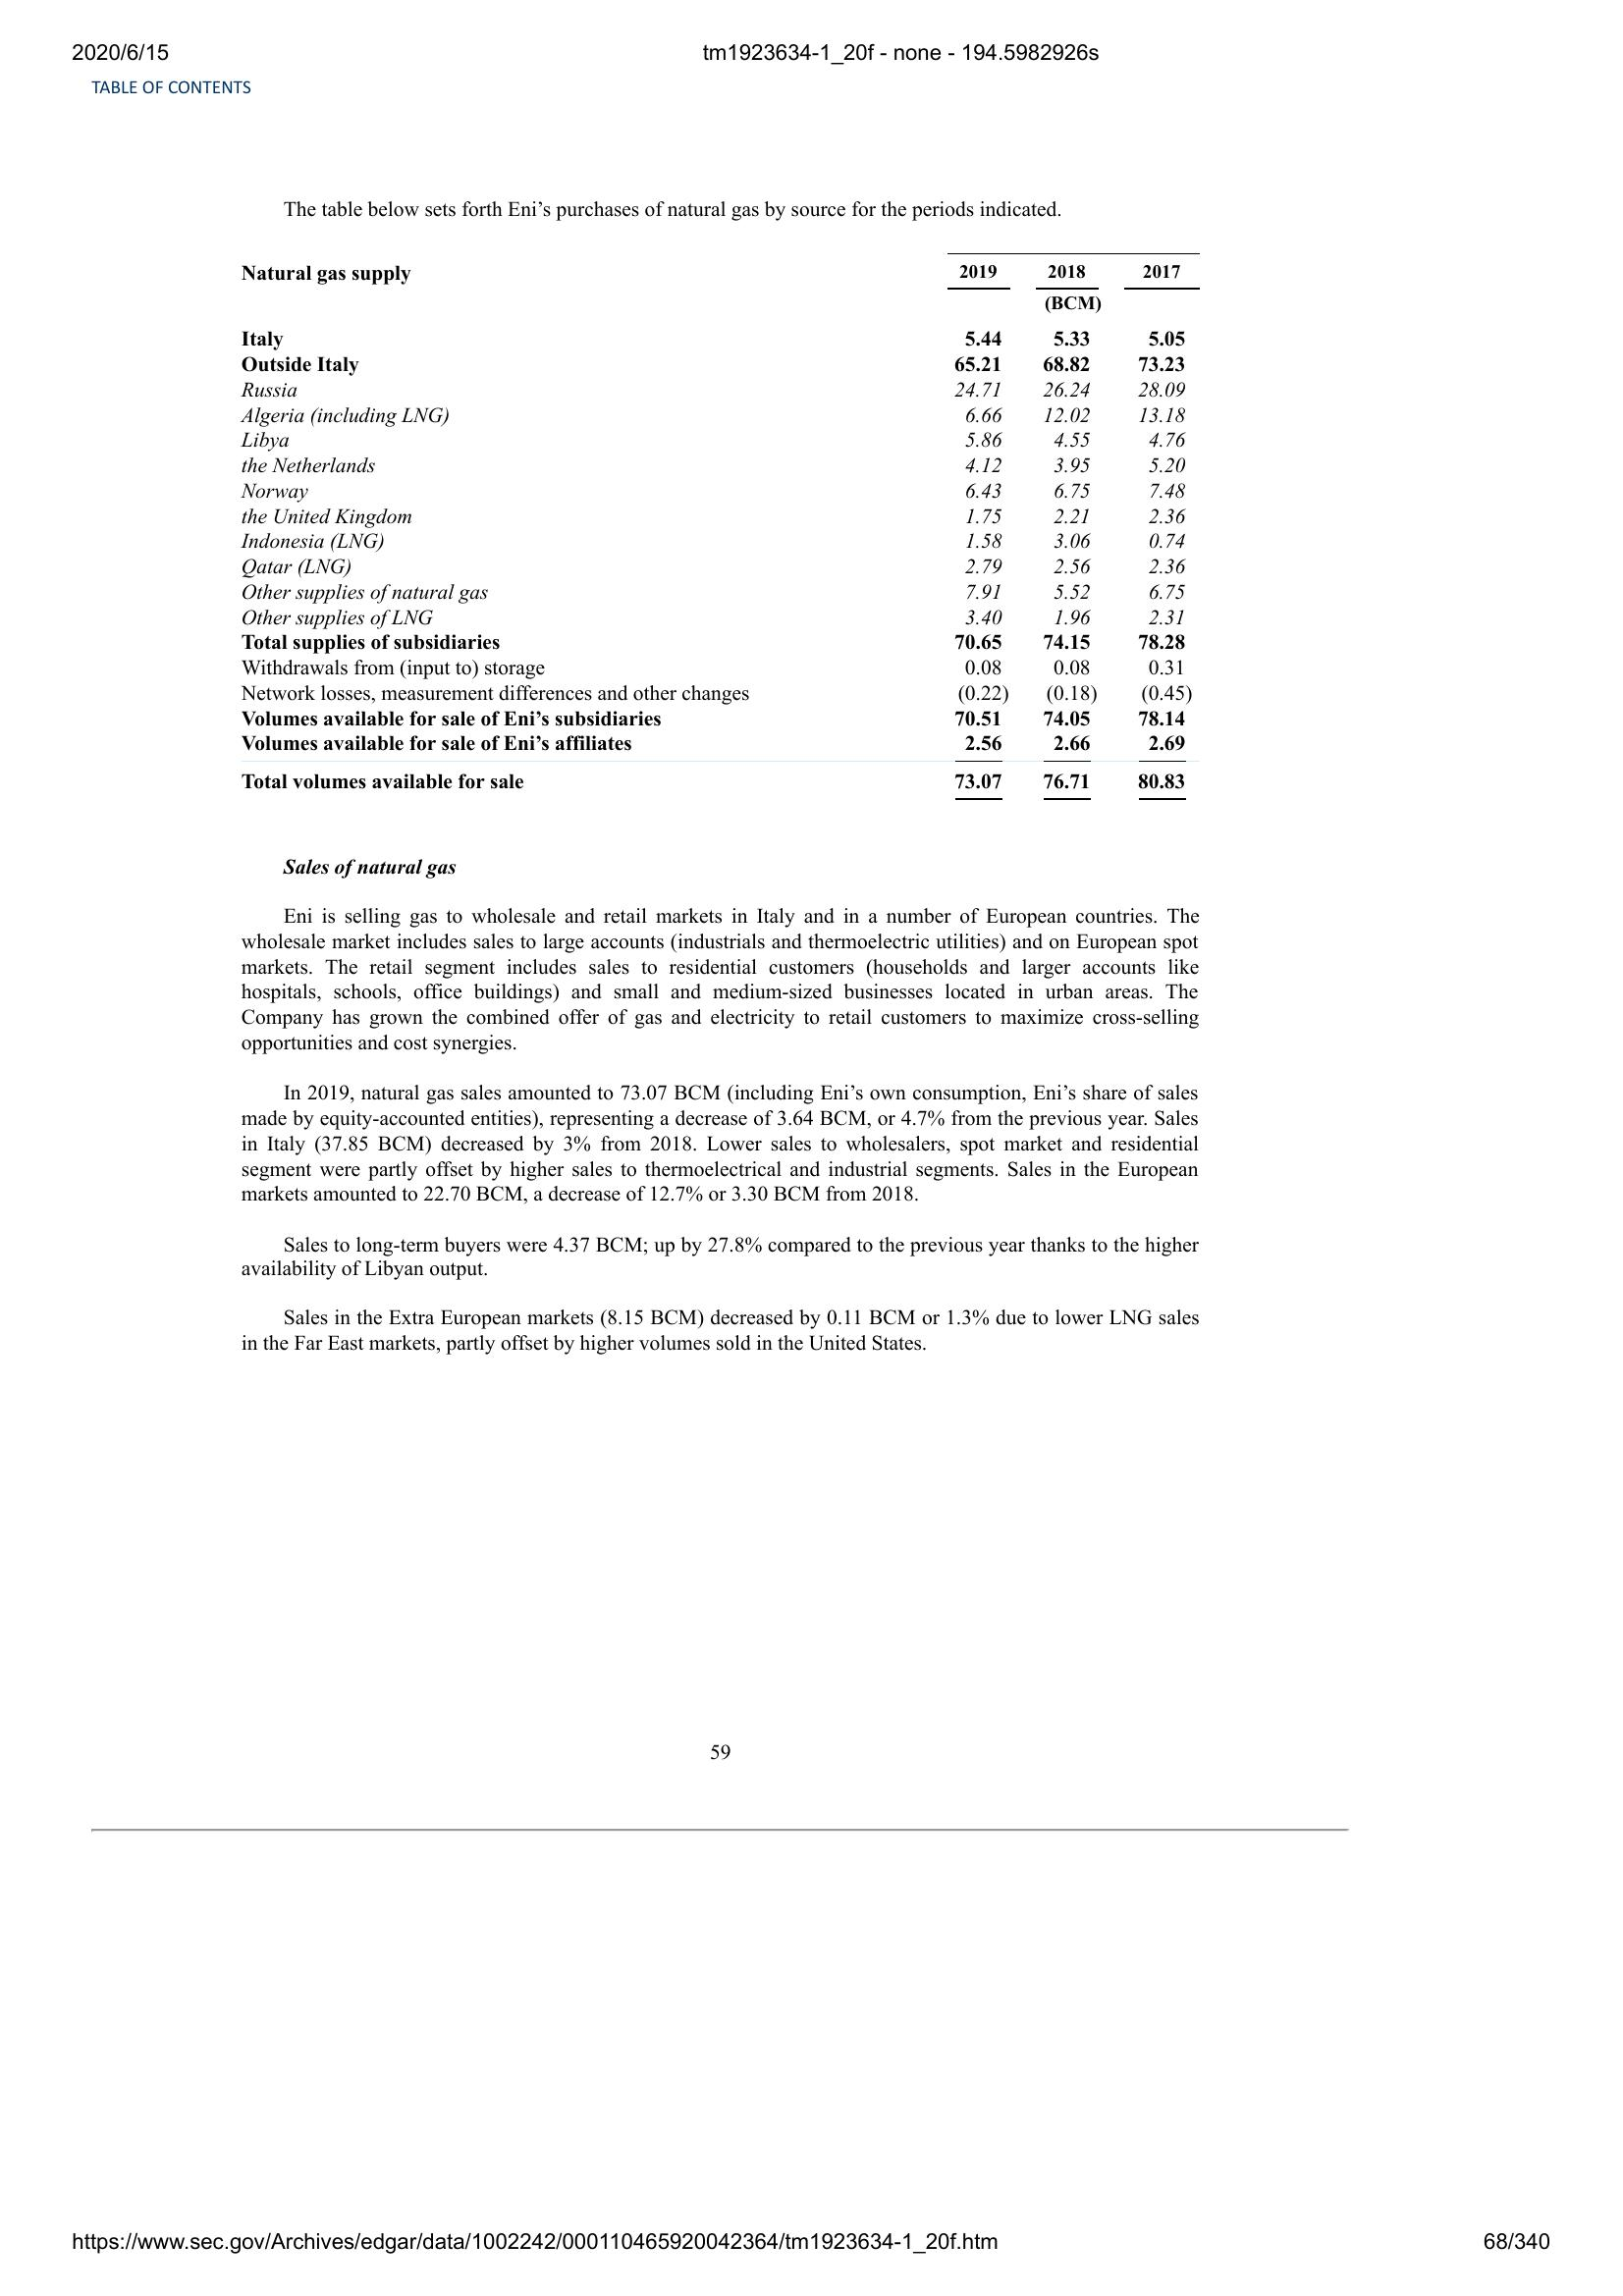table: (234, 256, 1194, 811)
